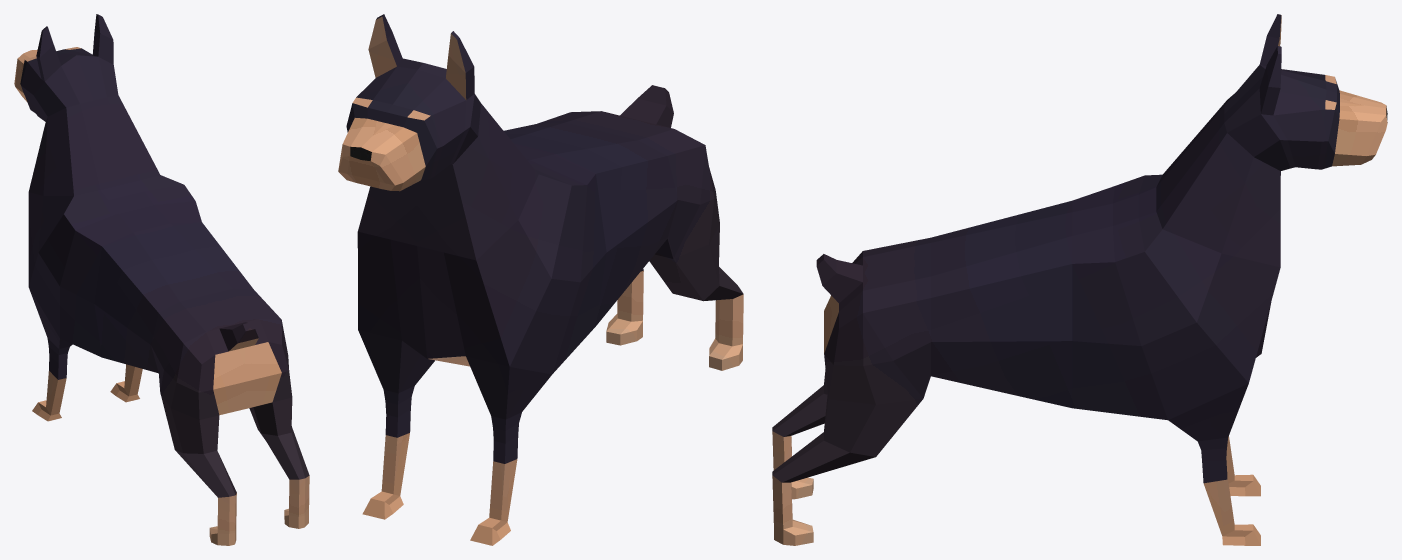
Rendered from bad dog.fbx.
3 renders of one model, left to right at view 1: azimuth 30°, elevation 25°; view 2: azimuth 150°, elevation 25°; view 3: azimuth 270°, elevation 25°, orthographic. The views are drawn at different scales.
Visible parts, largest first — view 1: Cube_Cube.001; view 2: Cube_Cube.001; view 3: Cube_Cube.001.
Part boxes in pixels (x1,y1,x2,y2): Cube_Cube.001: (14,14,309,545); Cube_Cube.001: (338,14,743,545); Cube_Cube.001: (772,14,1387,545).
Size of the model in its own units: 31.91 by 86.99 by 99.81.
1 material, 1 textured.
